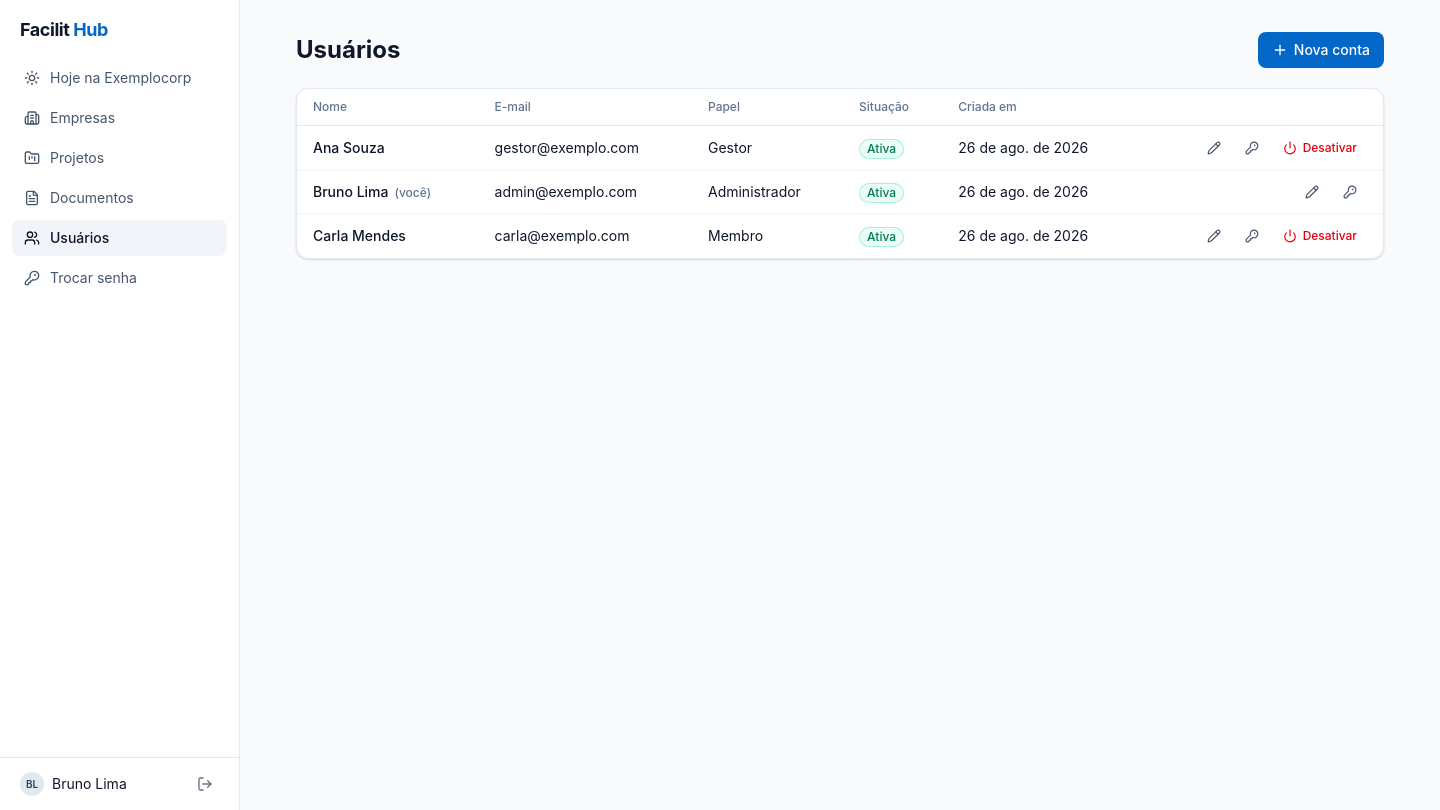
Test case: tela de usuários › edita nome e papel de outra conta e mostra propria_conta
Click the button named "Editar Carla Mendes".
click(1214, 236)  # box top-left (1197, 224), bottom-right (1231, 248)
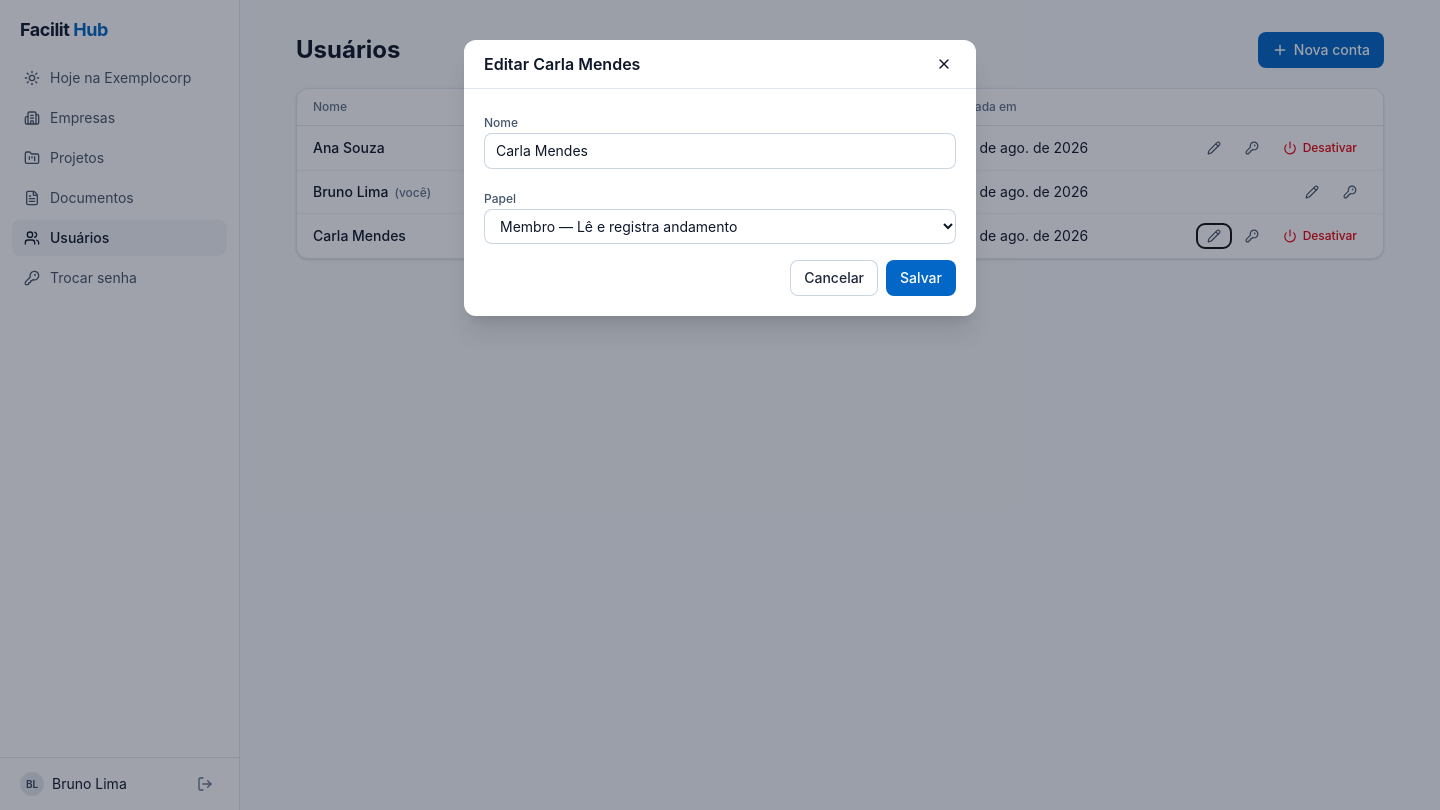
Select "Gestor — Cria e edita empresas e projetos" in the dropdown labelled "Papel" at (720, 226), box top-left (484, 209), bottom-right (956, 244)
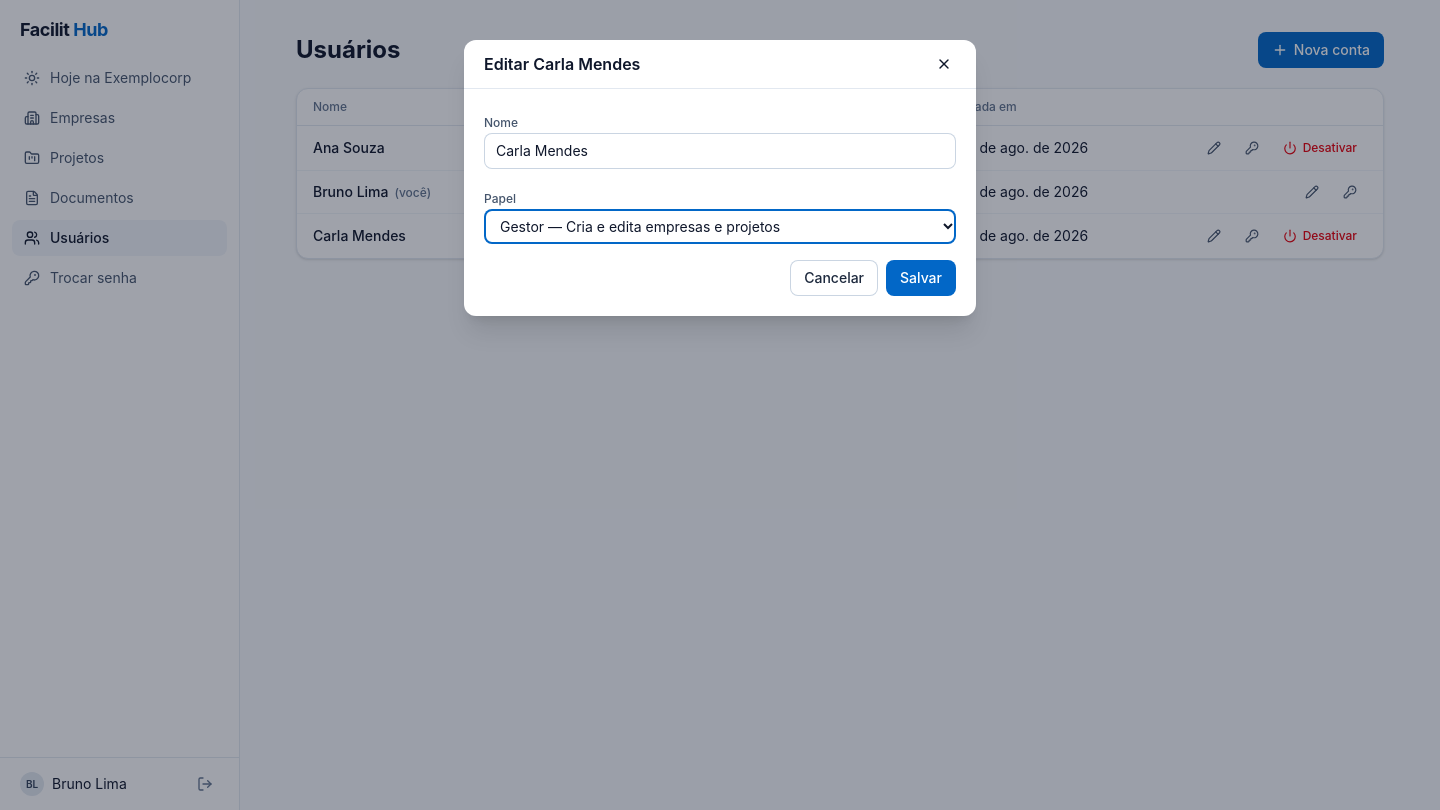
Click the button "Salvar".
click(921, 278)  # box top-left (886, 260), bottom-right (956, 296)
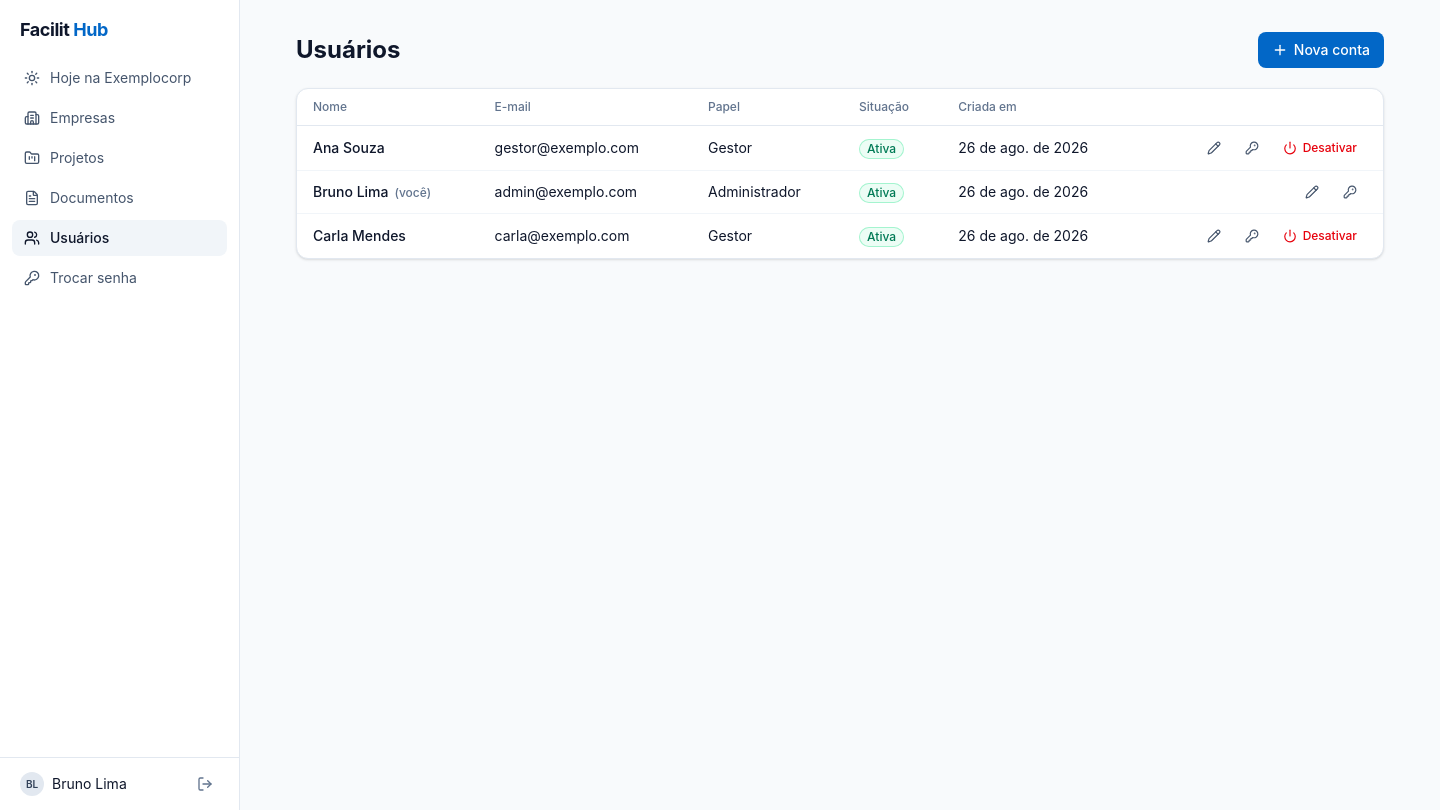
expect the dialog is gone: met
Click the button named "Editar Carla Mendes".
click(1214, 236)  # box top-left (1197, 224), bottom-right (1231, 248)
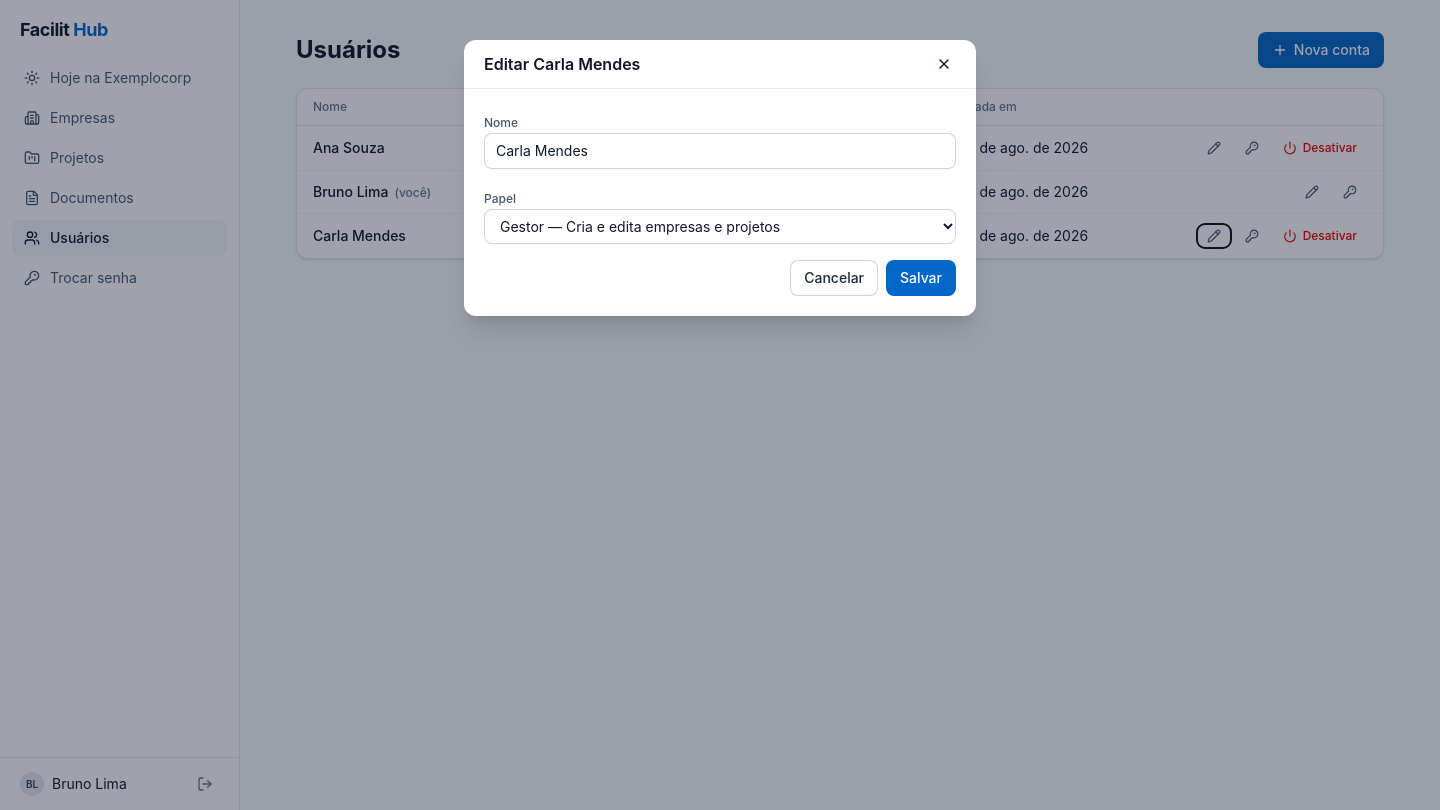
Click the button "Salvar".
click(921, 278)  # box top-left (886, 260), bottom-right (956, 296)
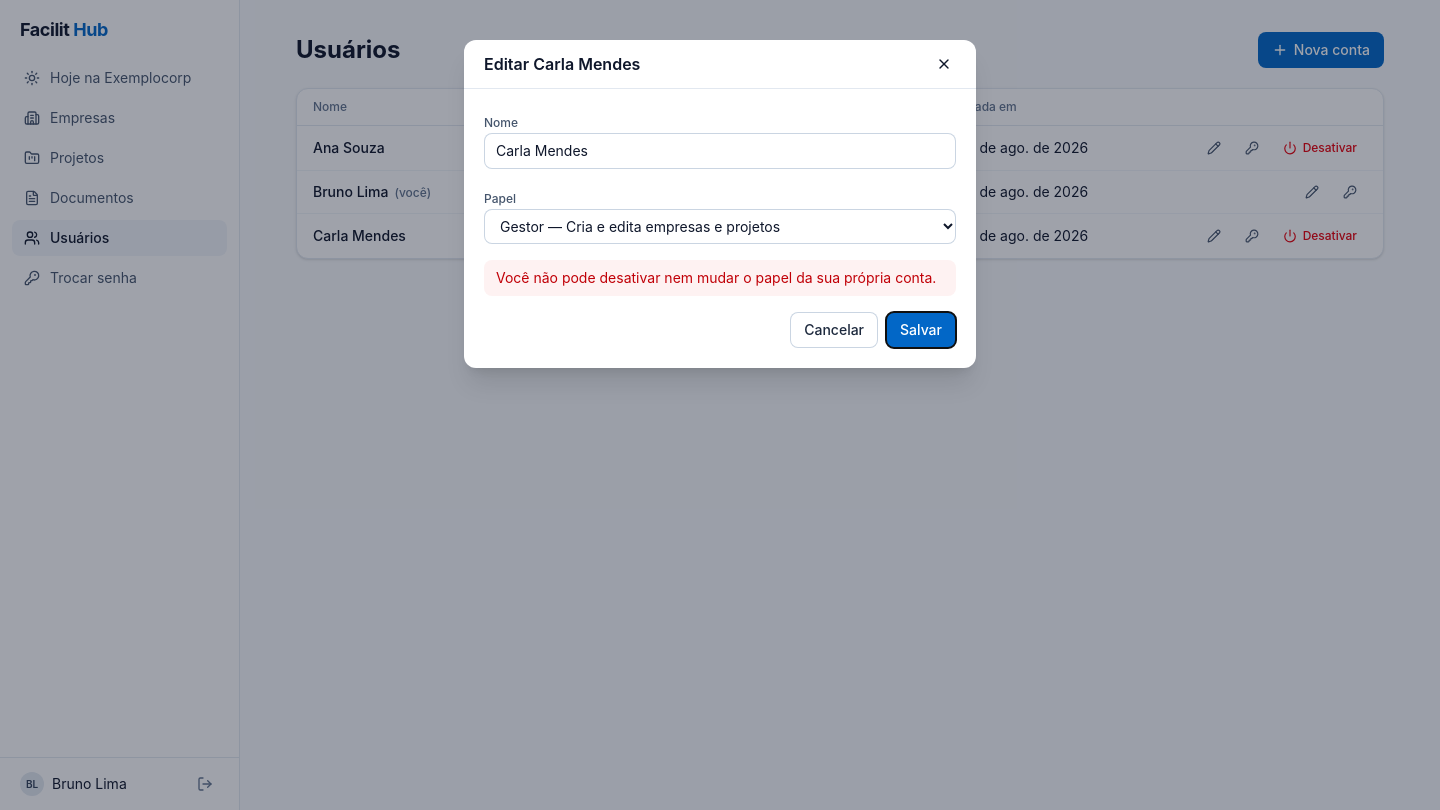
expect the message reads "Você não pode desativar nem mudar o papel da sua própria conta.": met, box top-left (496, 269), bottom-right (936, 286)
